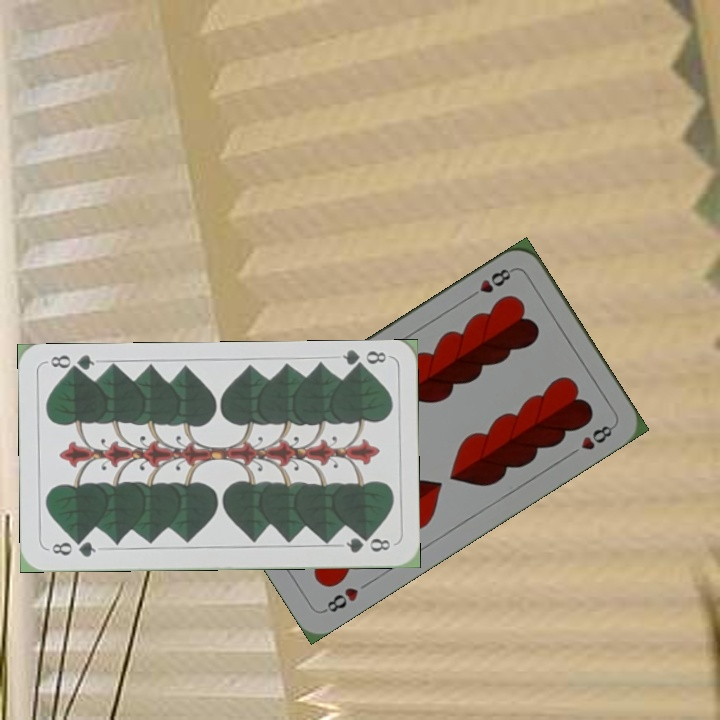G8: (338, 347, 388, 374), (48, 536, 99, 560)
H8: (464, 264, 517, 302), (319, 583, 361, 616)
